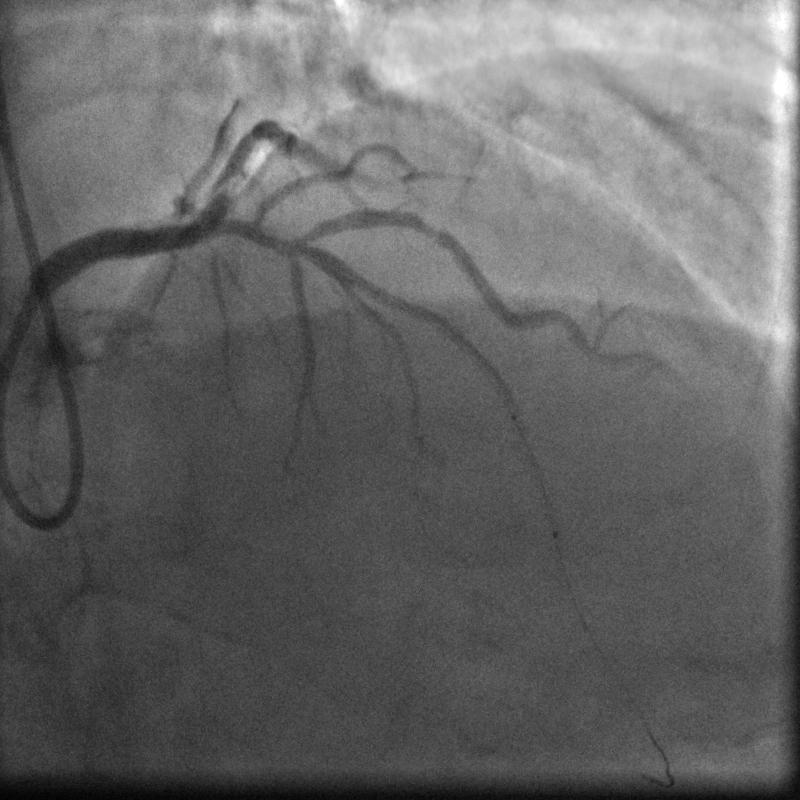Stenosis: (413, 205, 452, 244)
